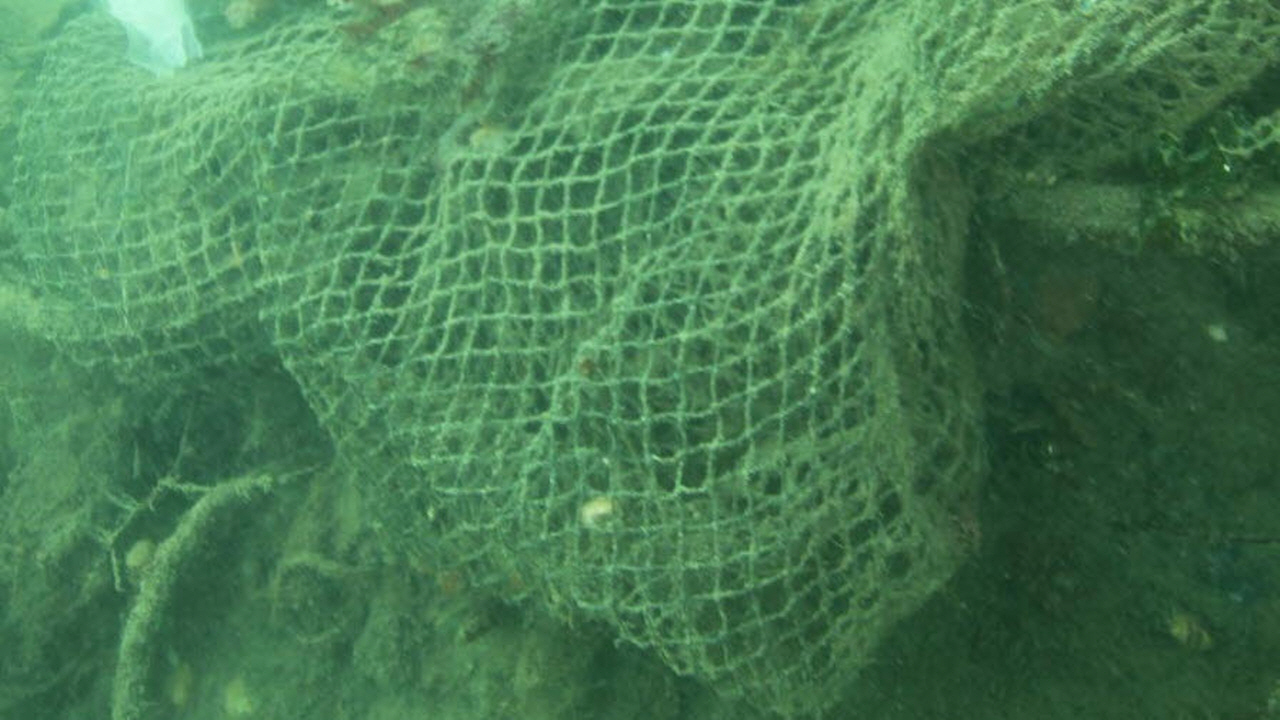fish net: (0, 0, 1276, 717)
